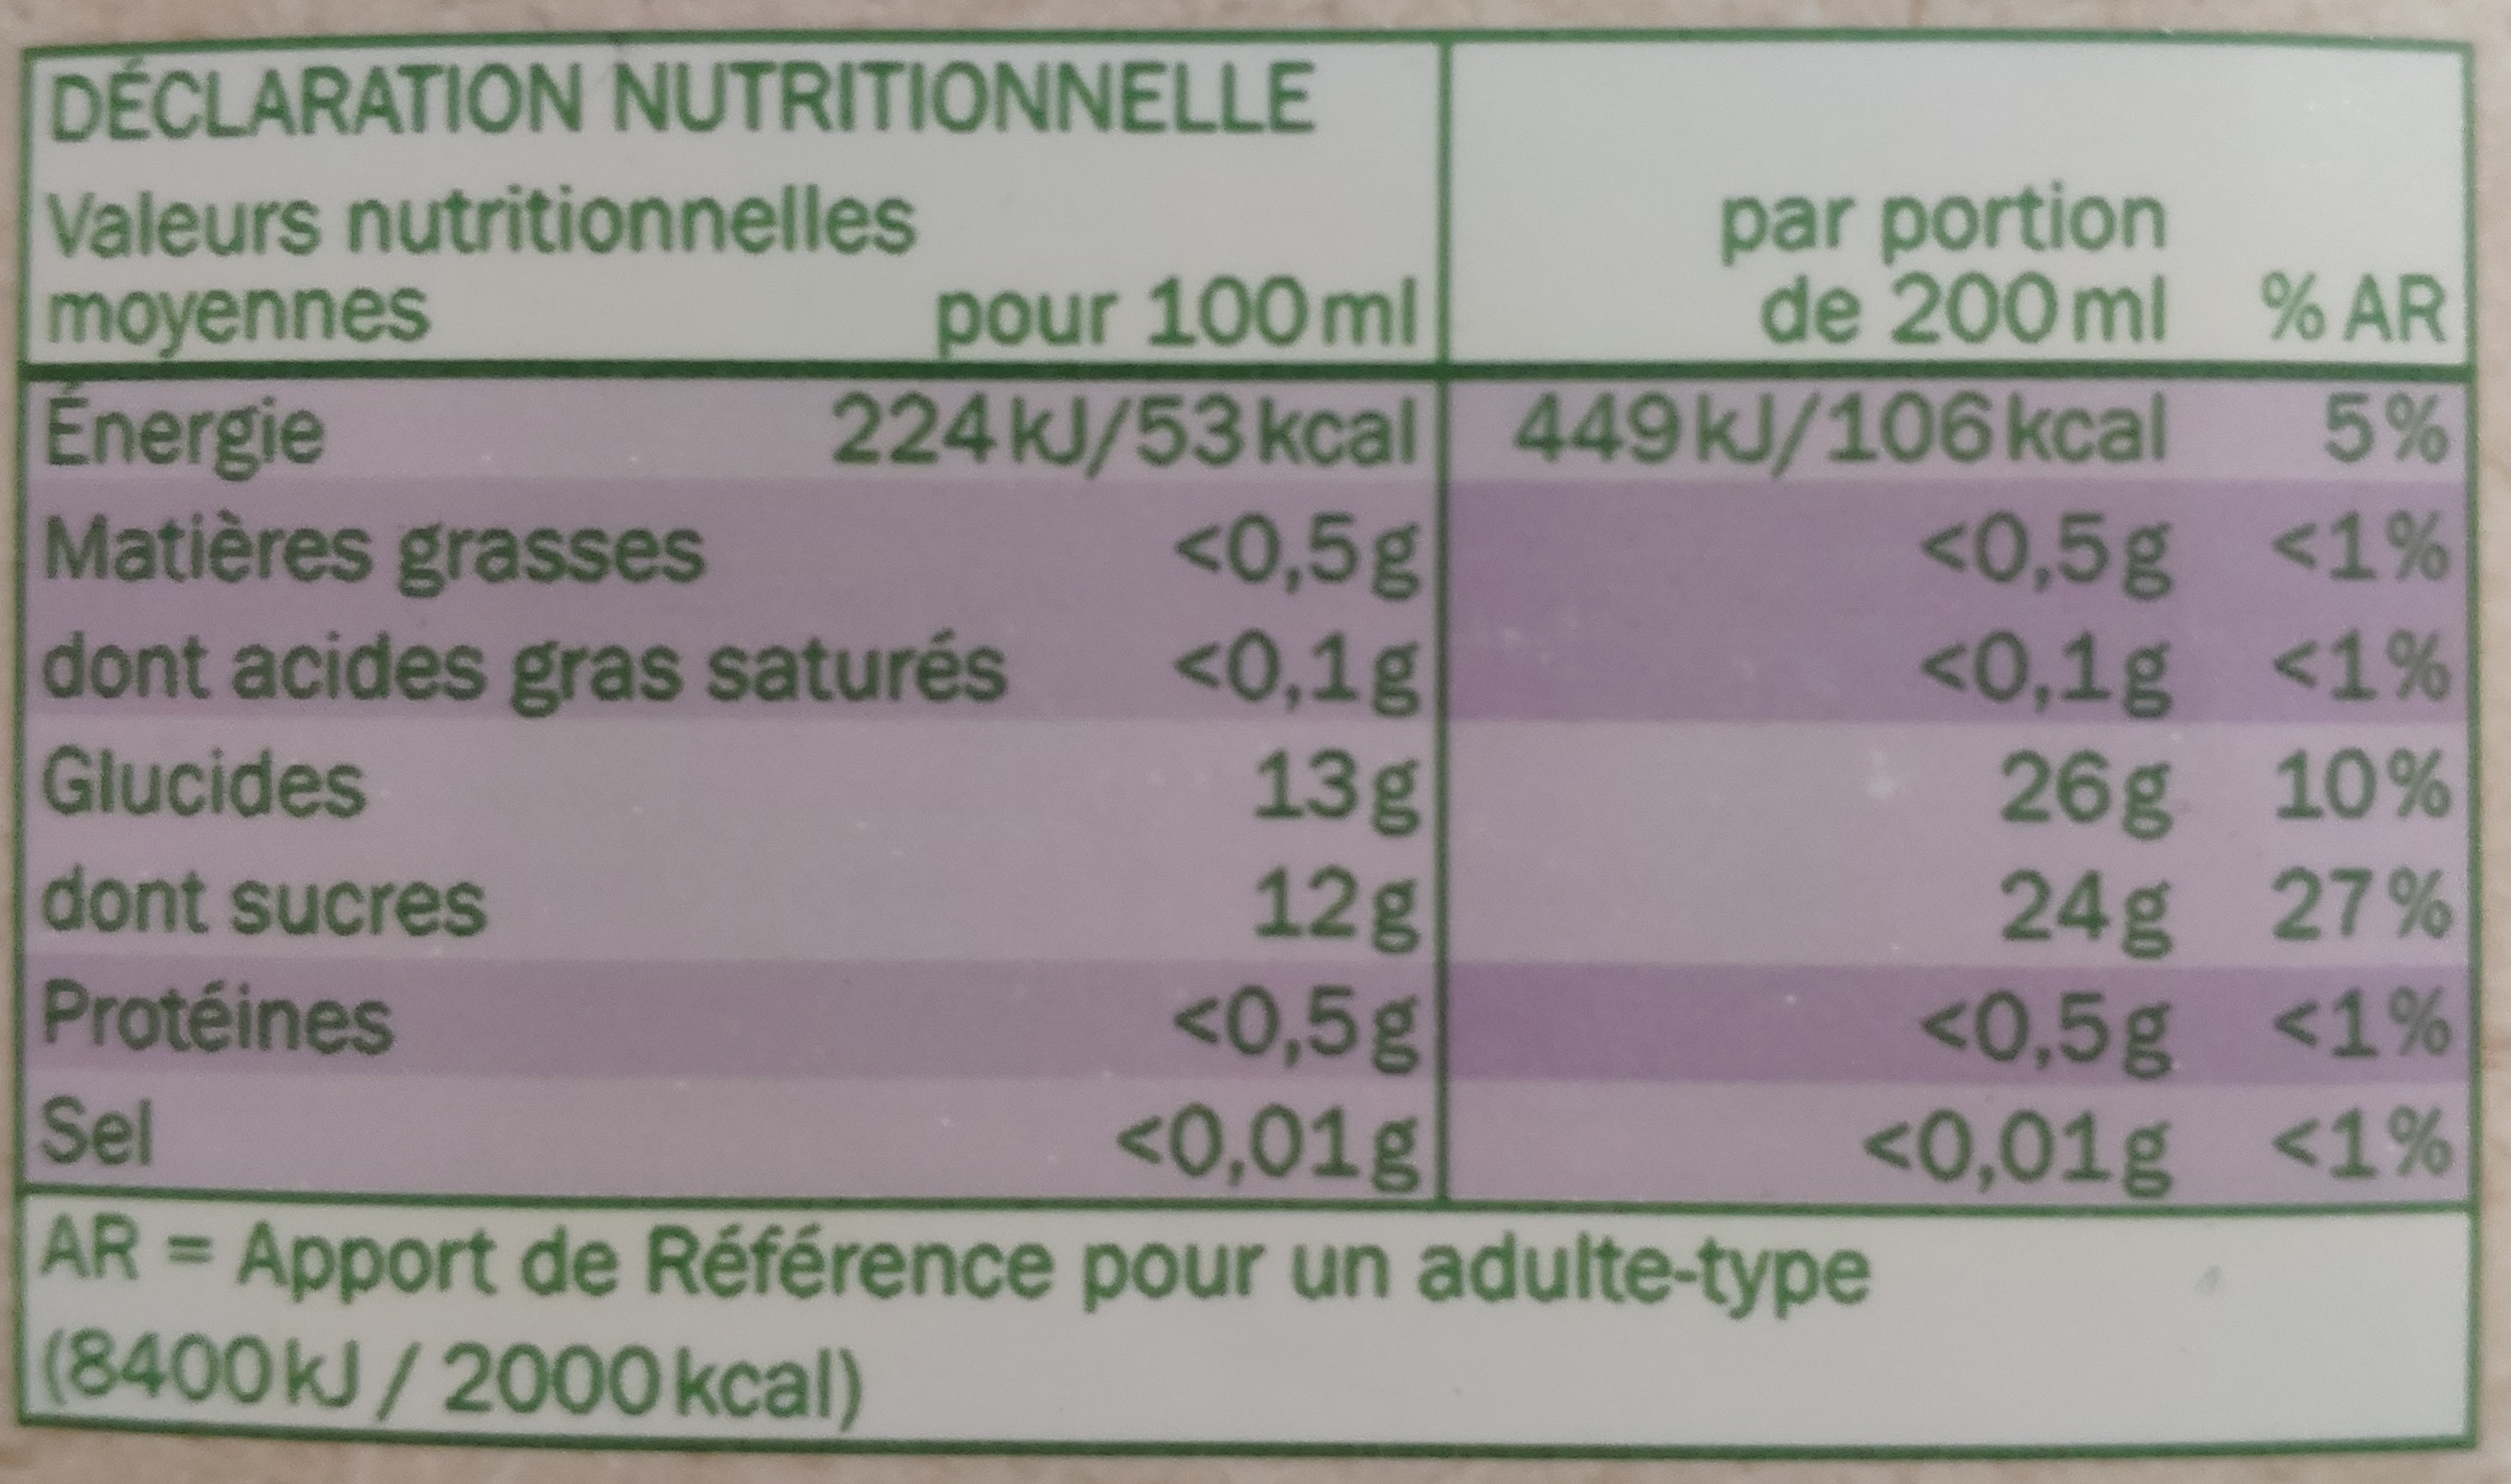column: (19, 171, 922, 1210), (1464, 171, 2195, 1201), (945, 175, 1429, 1193), (2216, 171, 2458, 1201)
table: (25, 57, 2477, 1215)
